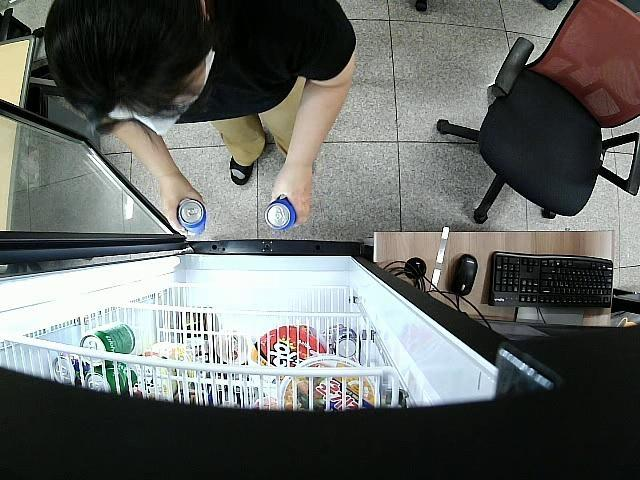13_pocariSweat: (266, 200, 296, 232), (179, 199, 206, 234)
